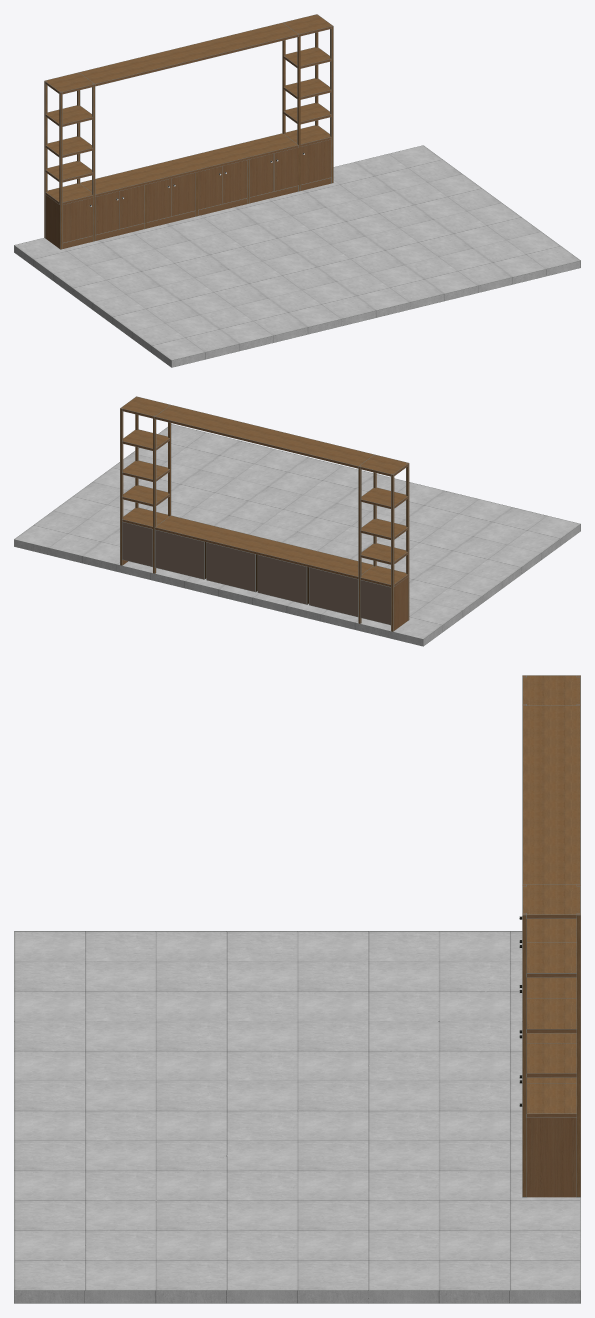
Rendered from modell.glb.
3 renders of one model, top to bottom at view 1: azimuth 30°, elevation 25°; view 2: azimuth 150°, elevation 25°; view 3: azimuth 270°, elevation 25°, orthographic. The views are drawn at different scales.
Bounding box in the file's own units: 6003 × 2303 × 4003.
Materials: 9 (6 with a texture image).
